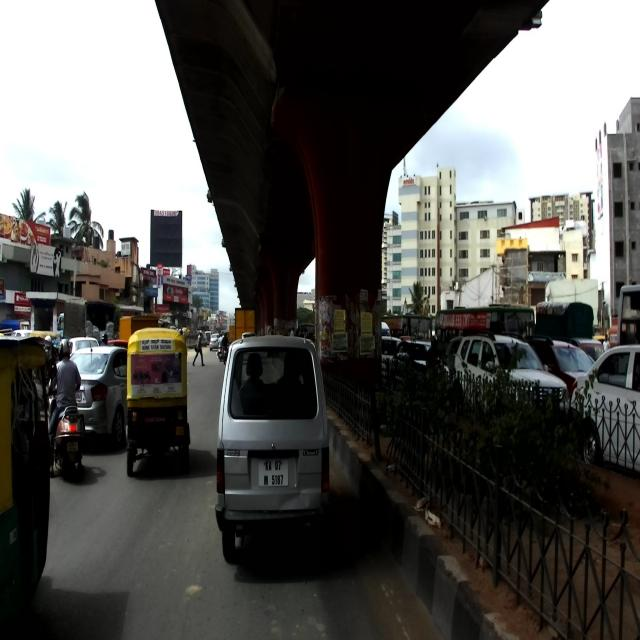autorickshaw: (0, 329, 56, 638), (125, 326, 191, 476)
car: (214, 332, 332, 566)
scooter: (48, 390, 85, 479)
